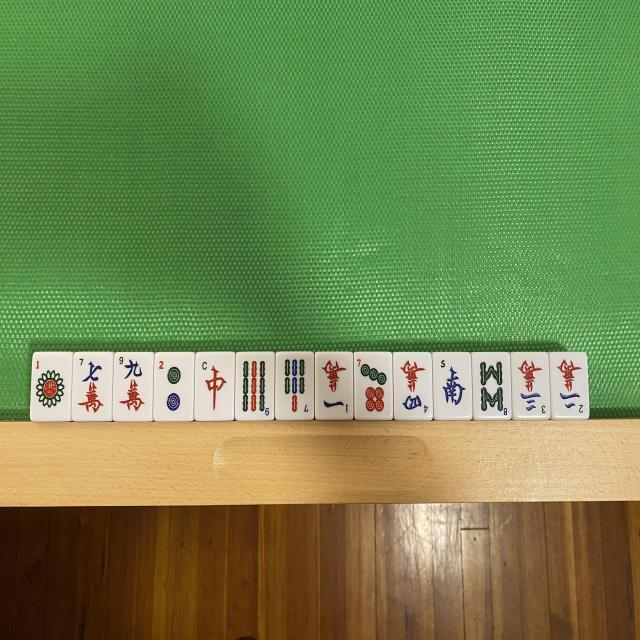hdr: (196, 352, 234, 418)
hws: (434, 355, 472, 418)
sb7: (276, 354, 313, 421)
sb8: (476, 352, 512, 416)
sb9: (240, 353, 276, 420)
sc1: (320, 355, 356, 420)
sc2: (551, 355, 587, 418)
sc3: (514, 353, 552, 417)
sc4: (395, 355, 432, 418)
sc7: (70, 351, 110, 418)
sc9: (114, 356, 154, 424)
sd1: (34, 354, 73, 421)
sd2: (154, 355, 194, 421)
sd7: (356, 353, 393, 419)
